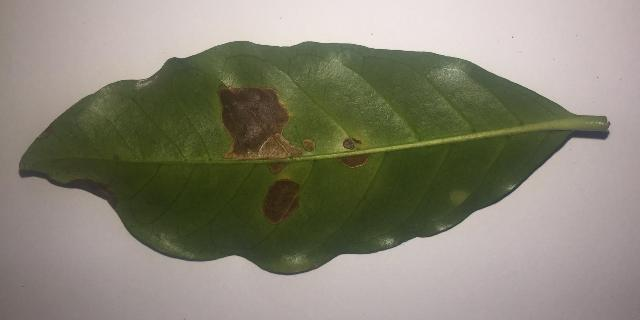cercospora: (218, 83, 316, 175), (260, 177, 300, 225), (69, 178, 115, 207), (337, 154, 370, 168), (450, 189, 468, 205), (342, 137, 362, 150), (41, 122, 52, 136)
